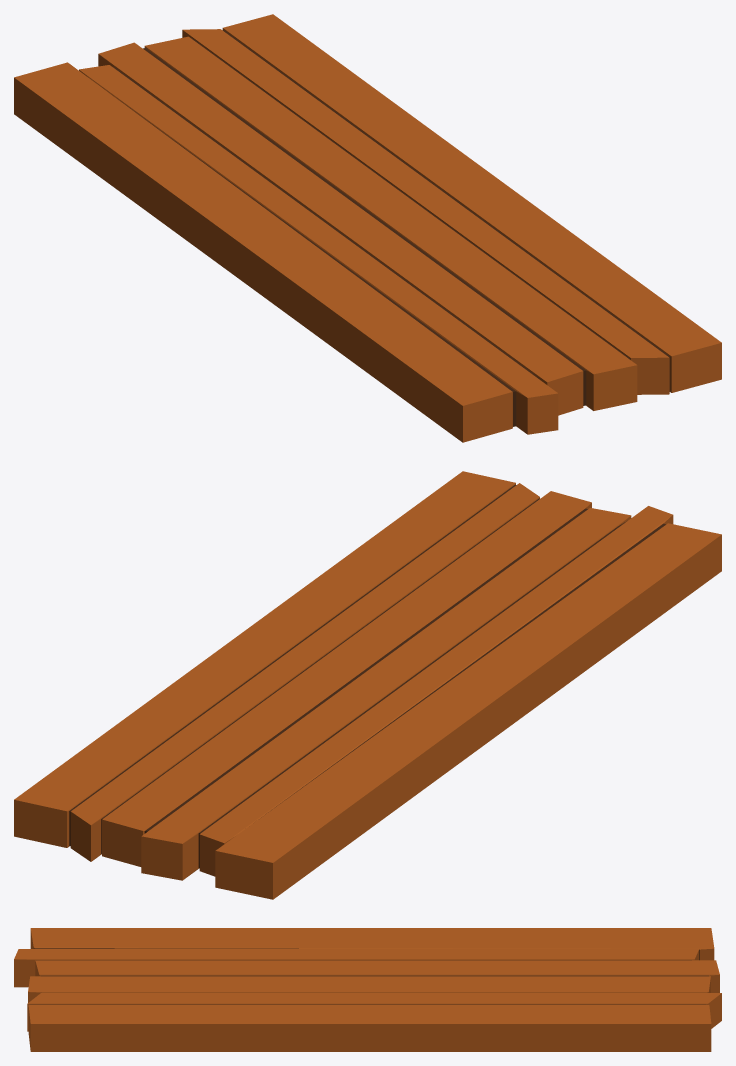
File: plank.fbx
The picture shows the model from 3 angles, top to bottom: view 1: azimuth 30°, elevation 25°; view 2: azimuth 150°, elevation 25°; view 3: azimuth 270°, elevation 25°; orthographic projection. The views are drawn at different scales.
Visible parts, largest first — view 1: Cube; view 2: Cube; view 3: Cube.
Boxes of the visible parts, left/top/right/bottom form: Cube: left=14, top=14, right=721, bottom=442; Cube: left=14, top=471, right=721, bottom=899; Cube: left=14, top=928, right=721, bottom=1051.
Size of the model in its own units: 200 by 27.14 by 624.
